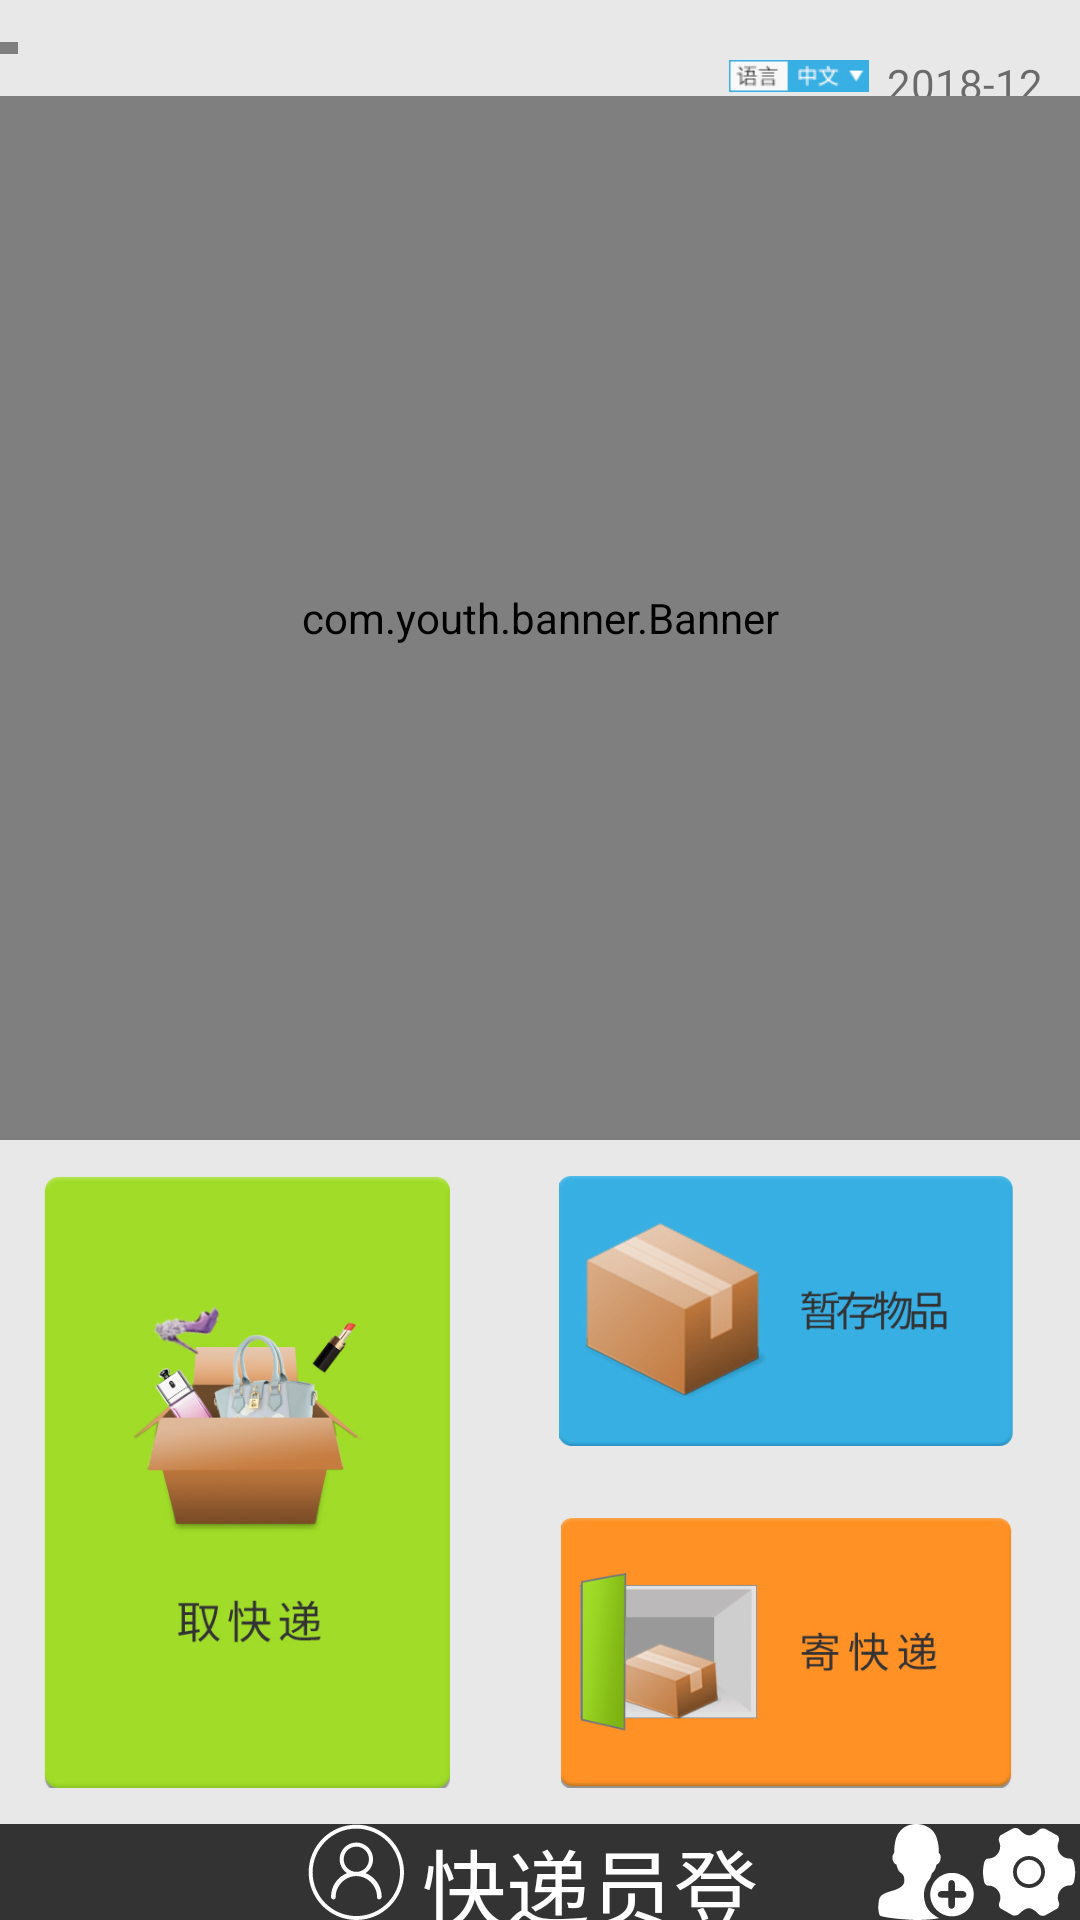

Icons on this 1080px×1920px Android screen, each with its box as (x1, y1, x2, y2):
register: (878, 1824, 974, 1920)
set: (983, 1828, 1076, 1916)
user login: (308, 1824, 404, 1920)
